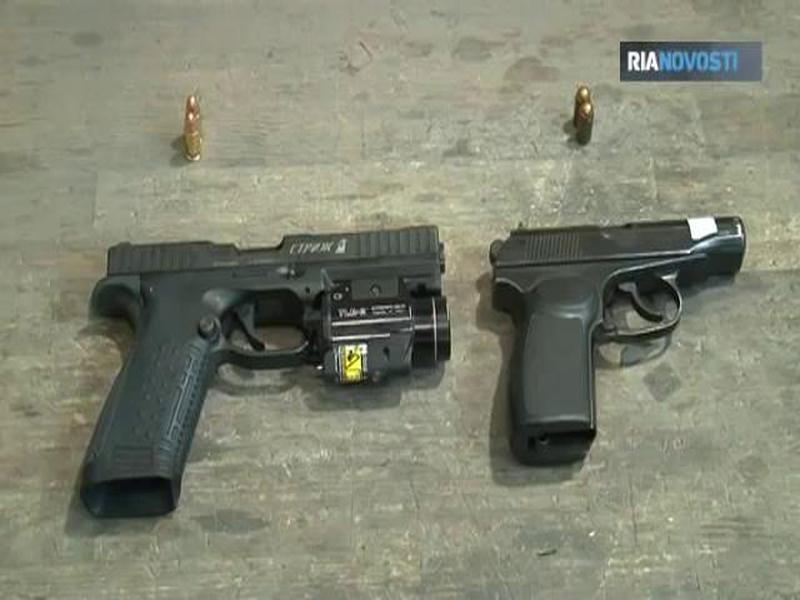Pistola: (63, 199, 464, 520), (494, 198, 764, 474)
